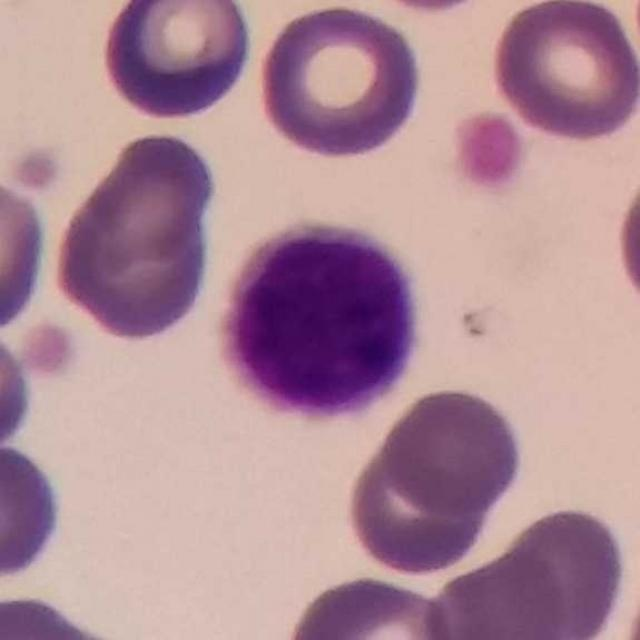Lymphocyte: (209, 212, 434, 429)
Platelets: (446, 108, 530, 200), (15, 314, 89, 382), (5, 140, 66, 196)
RBC: (209, 212, 432, 429), (46, 125, 222, 346), (254, 1, 427, 164), (342, 434, 499, 579), (487, 1, 640, 146), (95, 0, 258, 125), (376, 383, 528, 517), (490, 501, 631, 640), (423, 545, 572, 640), (280, 571, 460, 640), (0, 435, 71, 592), (0, 168, 53, 337), (0, 586, 140, 640), (0, 313, 38, 465), (611, 148, 640, 328)
